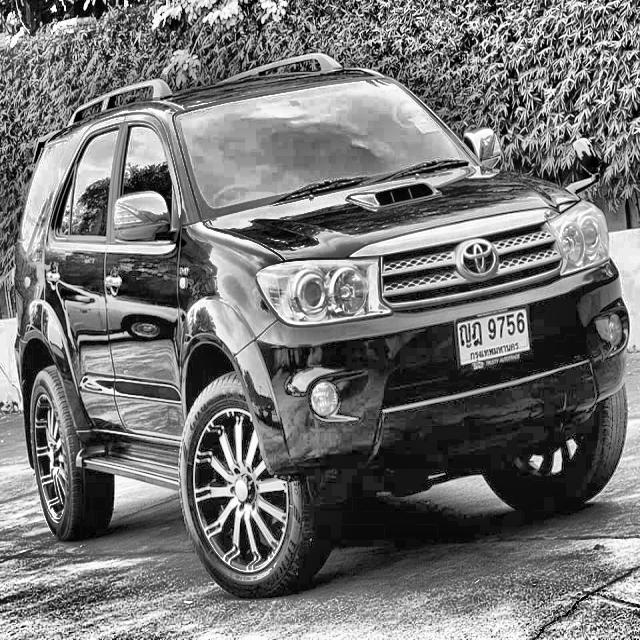license-plate: (454, 305, 531, 371)
